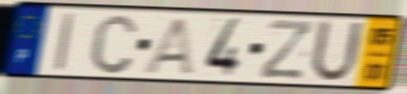4: (201, 15, 245, 81)
A: (140, 16, 197, 78)
C: (87, 11, 140, 76)
I: (52, 10, 78, 74)
U: (307, 17, 366, 85)
Z: (256, 18, 317, 82)
